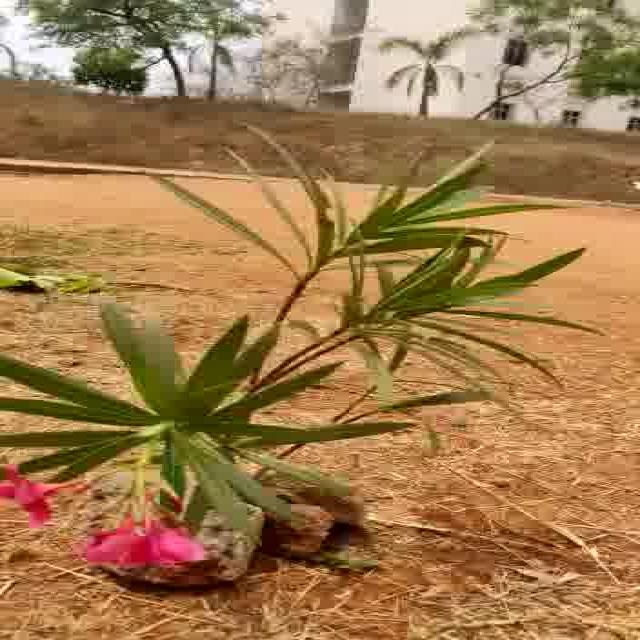Oleander: (11, 163, 556, 590)
